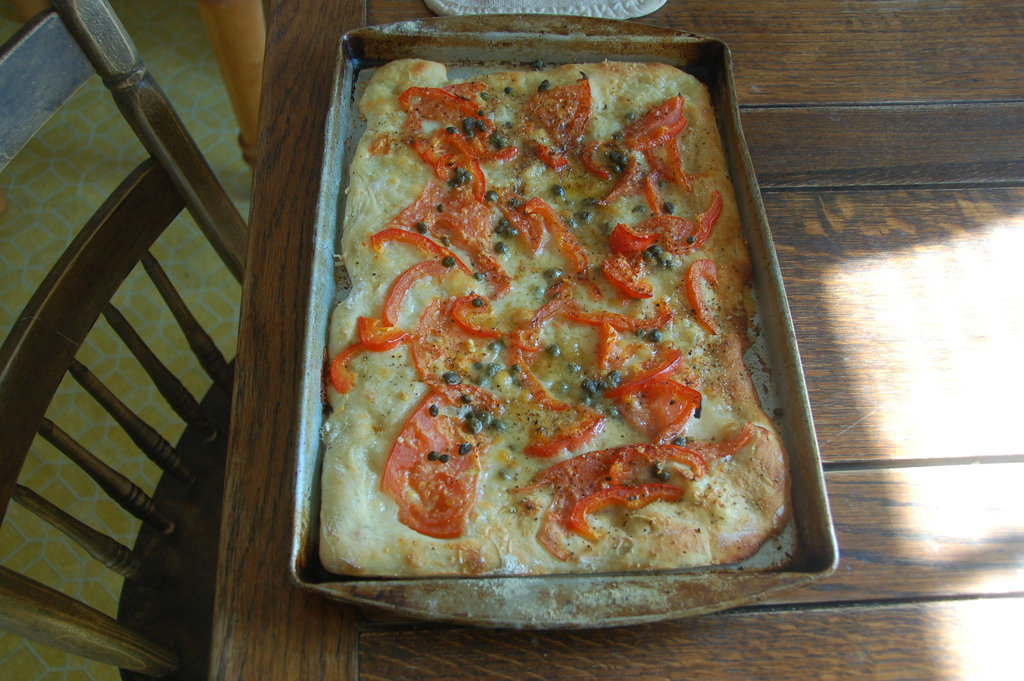Pizza: (282, 62, 811, 648)
